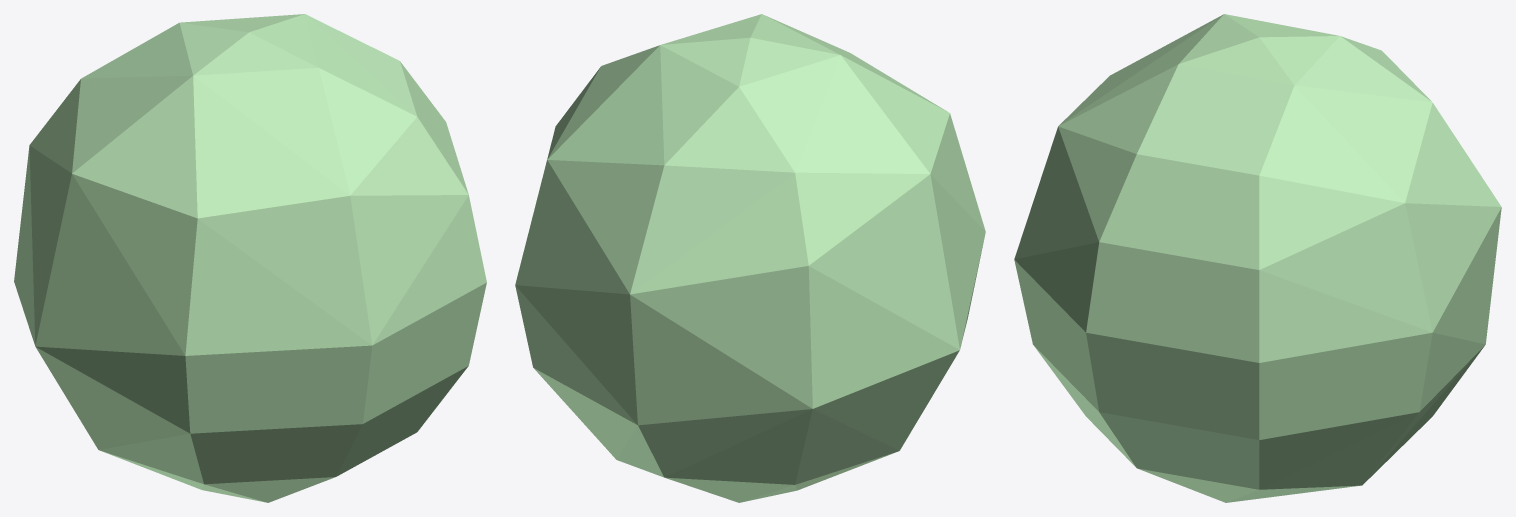
The model's file is ball.glb.
3 views of the same model, side by side, from view 1: azimuth 30°, elevation 25°; view 2: azimuth 150°, elevation 25°; view 3: azimuth 270°, elevation 25° (orthographic).
Parts seen in each view (by area): view 1: ball; view 2: ball; view 3: ball.
Boxes of the visible parts, left/top/right/bottom form: ball: left=14, top=14, right=486, bottom=502; ball: left=515, top=14, right=985, bottom=502; ball: left=1014, top=14, right=1501, bottom=502.
Bounding box in the file's own units: 0.3455 × 0.3459 × 0.3439.
1 material, 1 textured.
